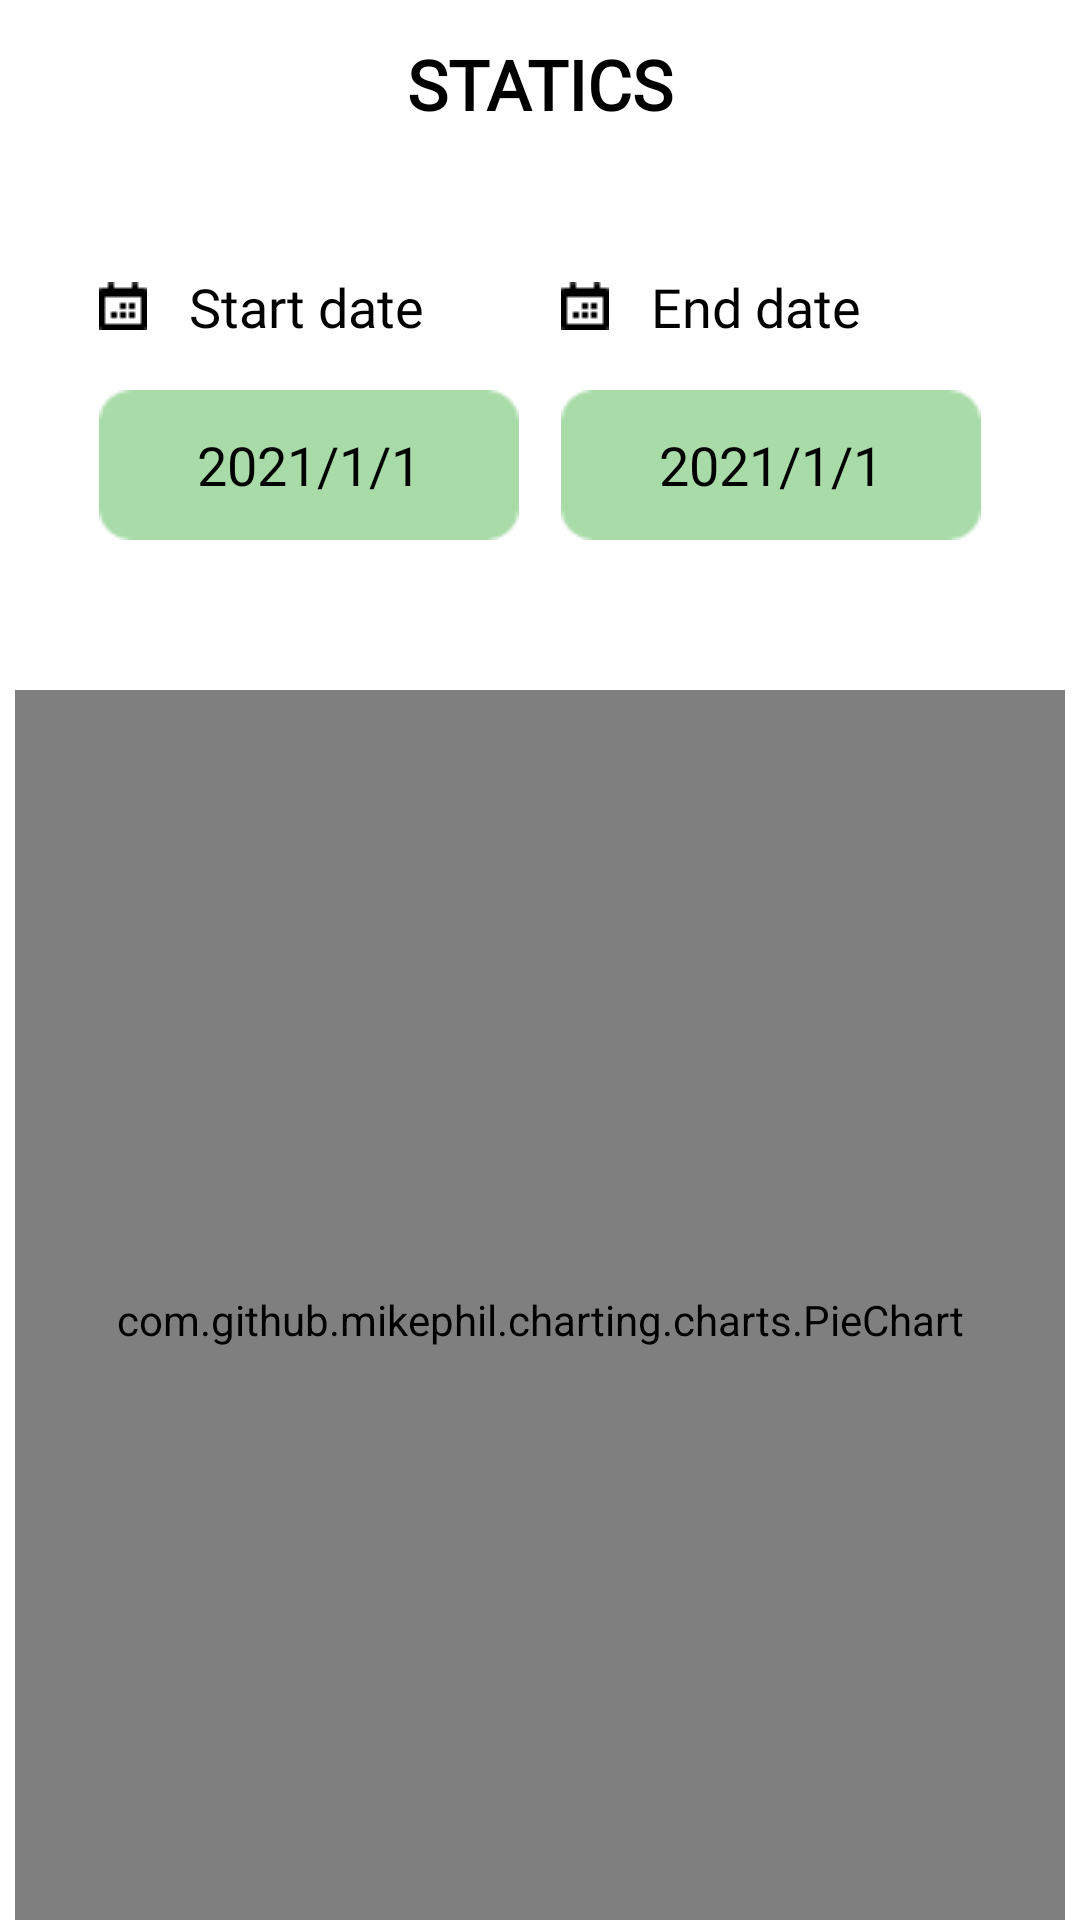

Screen size 1080 × 1920. Icon name, then its center in pixels as (x,y):
calendar: (123,306), (585,306)
